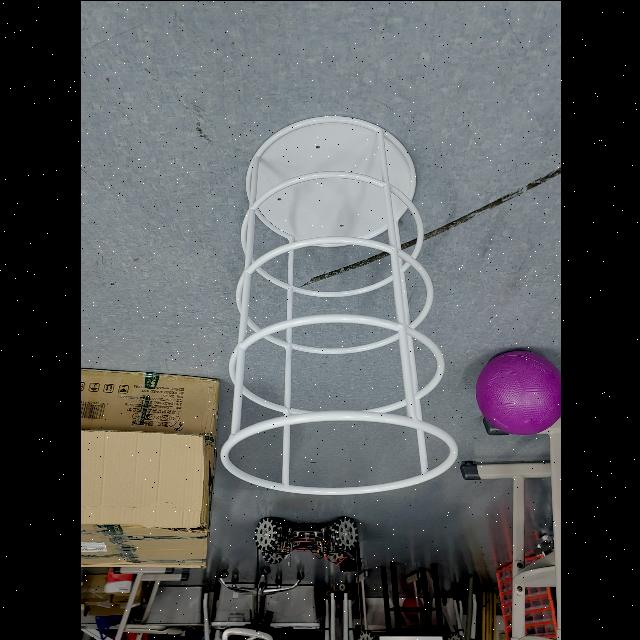S: (202, 111, 466, 499)
